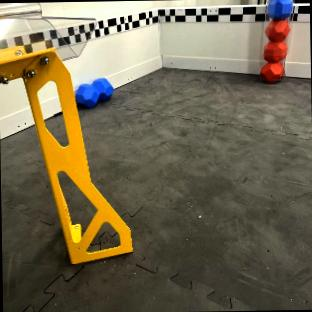V5_BLUE: (75, 77, 112, 106), (267, 0, 291, 19)
V5_RED: (263, 39, 286, 62), (260, 60, 282, 82), (265, 19, 288, 40)
